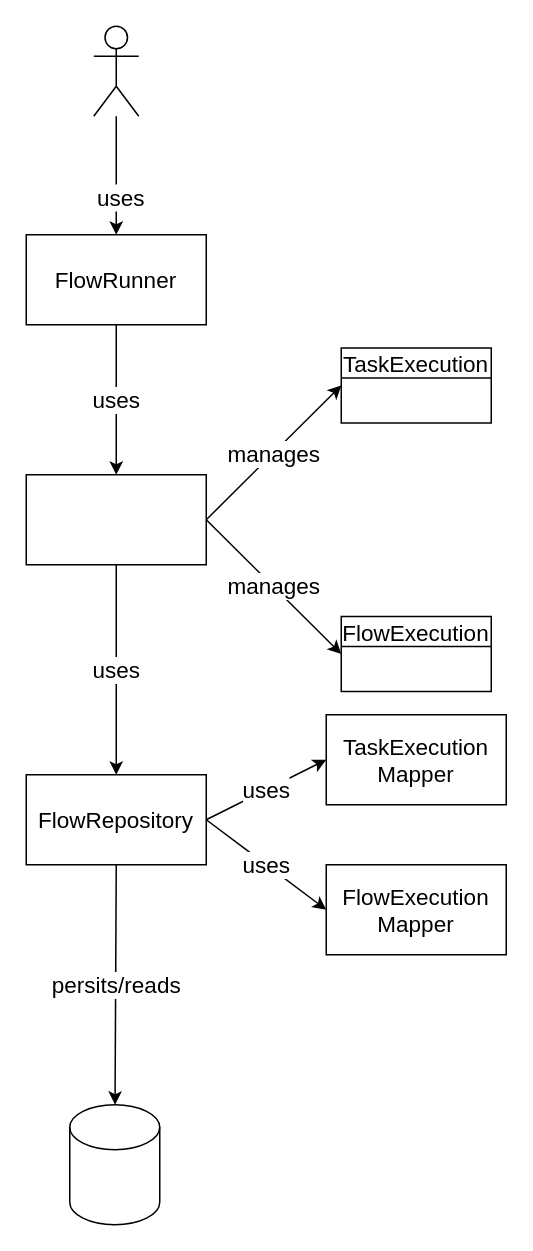
The diagram is 533 pixels wide and 1251 high, and some of its shapes have lost their labels. Each missing label, with the centre of its shape:
"Consumer" goes at (115,70).
"FlowService" goes at (115,519).
"sqlitedb" goes at (114,1164).
